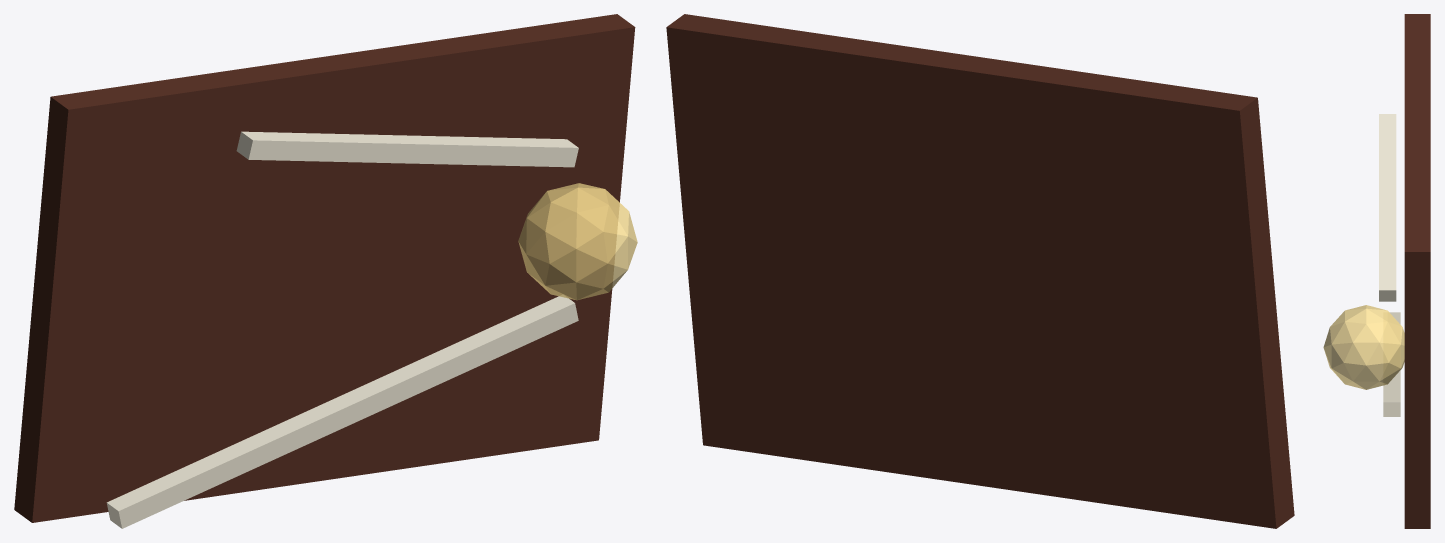
Rendered from 02_world_prop_polish.glb.
3 renders of one model, left to right at view 1: azimuth 30°, elevation 25°; view 2: azimuth 150°, elevation 25°; view 3: azimuth 270°, elevation 25°, orthographic. The views are drawn at different scales.
Parts seen in each view (by area): view 1: object_overlay_plate, edge_wear_a, glow_socket, edge_wear_b; view 2: object_overlay_plate; view 3: object_overlay_plate, glow_socket, edge_wear_b, edge_wear_a.
Part boxes in pixels (x1,y1,x2,y2): object_overlay_plate: (14, 14, 635, 522); edge_wear_a: (106, 295, 578, 528); glow_socket: (518, 183, 637, 300); edge_wear_b: (236, 131, 578, 167); object_overlay_plate: (666, 14, 1294, 528); object_overlay_plate: (1404, 14, 1430, 528); glow_socket: (1323, 305, 1404, 389); edge_wear_b: (1379, 114, 1396, 301); edge_wear_a: (1383, 312, 1400, 416).
Size of the model in its own units: 1.17 by 0.8494 by 0.25.
